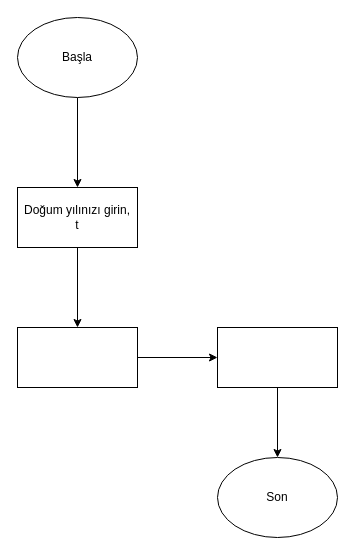
Some shapes in this 355 by 555 pixel diagram are drawn without their labels. Here are the shapes that lost their labels. From the top down, the centre of each, then its label:
pixel 77 357: y=2022-t
pixel 277 357: Yaz, y
